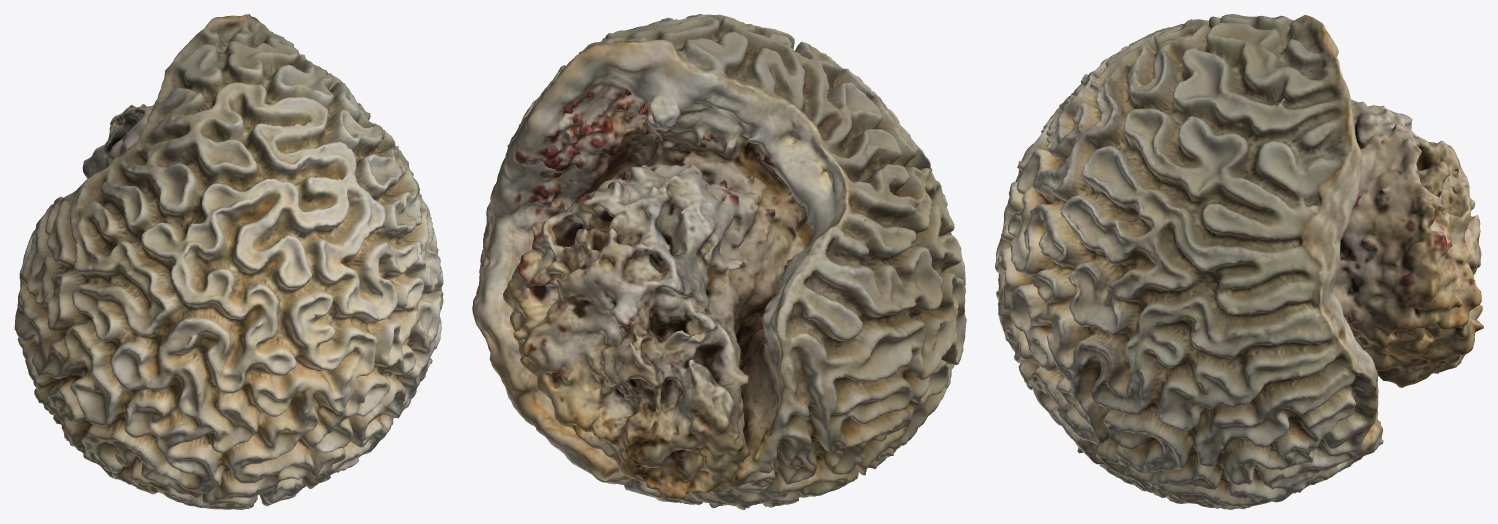
Rendered from smithsonian-diploria-labyrinthiformis.glb.
The picture shows the model from 3 angles, left to right: view 1: azimuth 30°, elevation 25°; view 2: azimuth 150°, elevation 25°; view 3: azimuth 270°, elevation 25°; orthographic projection. The views are drawn at different scales.
Bounding box in the file's own units: 0.1001 × 0.1078 × 0.1004.
1 material, 1 textured.
